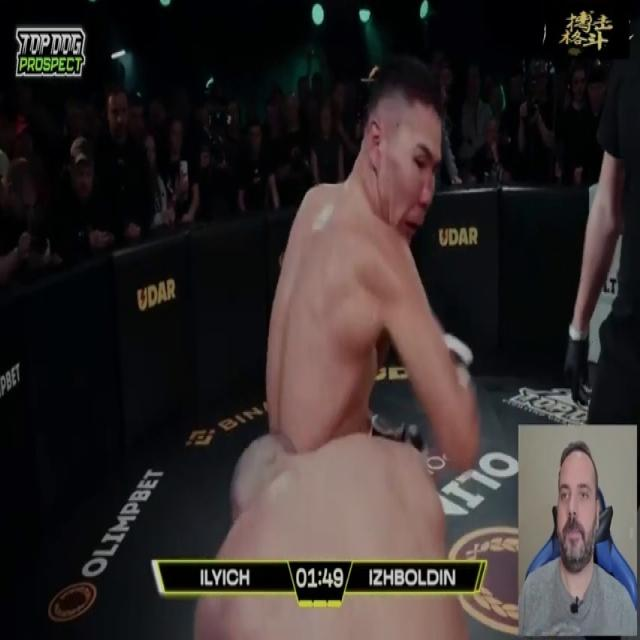fight: (192, 45, 485, 639)
